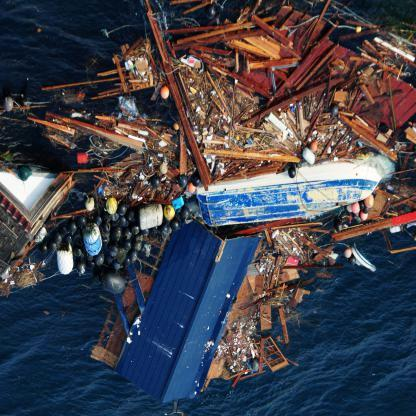Plastic: (82, 224, 103, 256), (55, 242, 74, 276), (137, 204, 162, 229)
